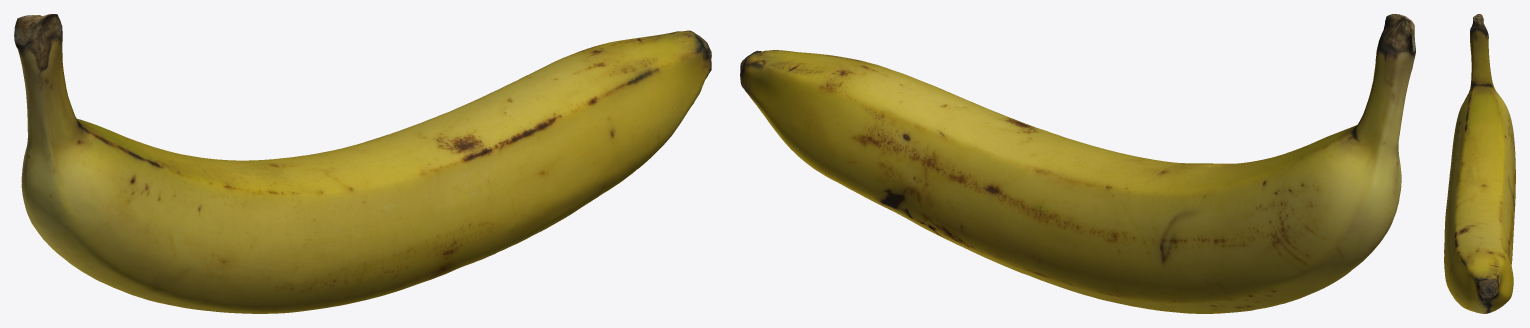
Rendered from banana.obj.
The picture shows the model from 3 angles, left to right: view 1: azimuth 30°, elevation 25°; view 2: azimuth 150°, elevation 25°; view 3: azimuth 270°, elevation 25°; orthographic projection. The views are drawn at different scales.
Visible parts, largest first — view 1: banana.obj; view 2: banana.obj; view 3: banana.obj.
Boxes of the visible parts, x1=… form: banana.obj: x1=14, y1=14, x2=711, y2=313; banana.obj: x1=740, y1=14, x2=1415, y2=313; banana.obj: x1=1444, y1=14, x2=1515, y2=313.
Bounding box in the file's own units: 0.2293 × 0.1138 × 0.0404.
